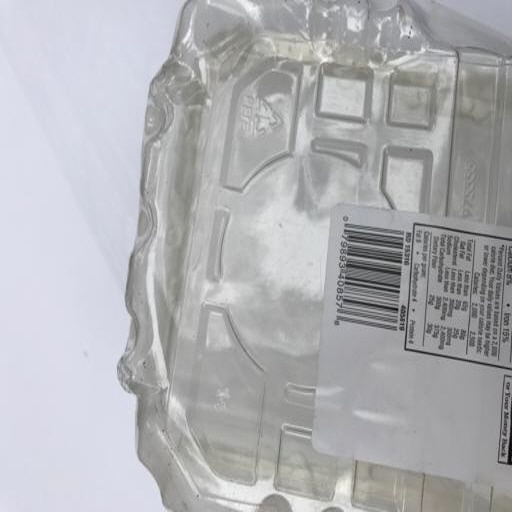Plastic_4: (119, 1, 512, 508)
